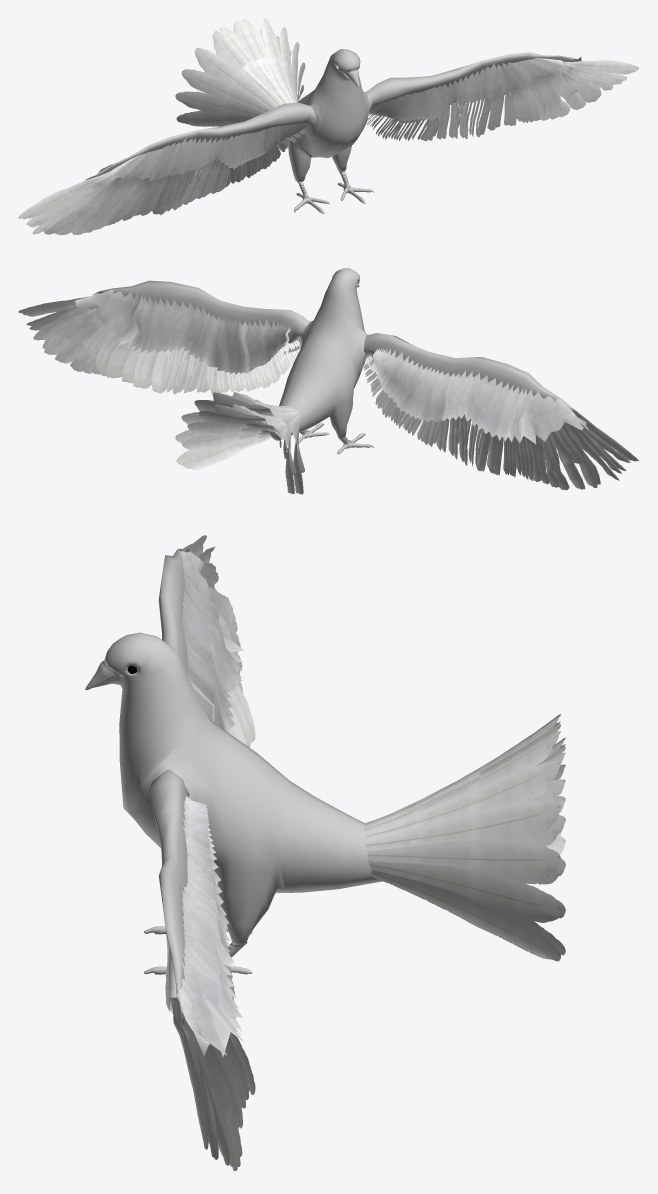
File: Pigeon.fbx
3 renders of one model, top to bottom at view 1: azimuth 30°, elevation 25°; view 2: azimuth 150°, elevation 25°; view 3: azimuth 270°, elevation 25°, orthographic. The views are drawn at different scales.
Visible parts, largest first — view 1: Body, polySurface371, polySurface301, polySurface52, polySurface53, polySurface49, polySurface51, polySurface302, polySurface48, polySurface44, polySurface45, polySurface50 (+11 smaller); view 2: Body, polySurface300, polySurface209, polySurface334, polySurface335, polySurface138, polySurface339, polySurface211, polySurface338, polySurface302, polySurface148, polySurface369 (+6 smaller); view 3: Body, polySurface209, polySurface300, polySurface47, polySurface46, polySurface43, polySurface45, polySurface42, polySurface44, polySurface211, polySurface50, polySurface41.
Boxes of the visible parts, x1=… form: Body: x1=93, y1=49, x2=577, y2=213; polySurface371: x1=369, y1=58, x2=565, y2=121; polySurface301: x1=110, y1=124, x2=308, y2=181; polySurface52: x1=194, y1=48, x2=276, y2=109; polySurface53: x1=181, y1=69, x2=270, y2=112; polySurface49: x1=175, y1=91, x2=263, y2=117; polySurface51: x1=212, y1=31, x2=281, y2=106; polySurface302: x1=18, y1=171, x2=113, y2=219; polySurface48: x1=176, y1=111, x2=253, y2=126; polySurface44: x1=241, y1=19, x2=293, y2=103; polySurface45: x1=262, y1=19, x2=295, y2=102; polySurface50: x1=233, y1=21, x2=285, y2=104; Body: x1=92, y1=268, x2=576, y2=454; polySurface300: x1=371, y1=348, x2=587, y2=443; polySurface209: x1=74, y1=290, x2=290, y2=374; polySurface334: x1=183, y1=440, x2=246, y2=470; polySurface335: x1=182, y1=431, x2=245, y2=451; polySurface138: x1=33, y1=307, x2=92, y2=340; polySurface339: x1=187, y1=421, x2=247, y2=434; polySurface211: x1=18, y1=296, x2=88, y2=316; polySurface338: x1=199, y1=411, x2=266, y2=424; polySurface302: x1=572, y1=408, x2=638, y2=461; polySurface148: x1=44, y1=308, x2=96, y2=354; polySurface369: x1=568, y1=424, x2=619, y2=480; Body: x1=85, y1=548, x2=383, y2=1023; polySurface209: x1=177, y1=796, x2=243, y2=1056; polySurface300: x1=180, y1=548, x2=243, y2=732; polySurface47: x1=367, y1=840, x2=560, y2=880; polySurface46: x1=365, y1=800, x2=560, y2=851; polySurface43: x1=368, y1=861, x2=560, y2=922; polySurface45: x1=365, y1=761, x2=560, y2=841; polySurface42: x1=371, y1=870, x2=560, y2=961; polySurface44: x1=364, y1=731, x2=560, y2=833; polySurface211: x1=173, y1=1003, x2=208, y2=1149; polySurface50: x1=364, y1=723, x2=560, y2=824; polySurface41: x1=364, y1=715, x2=560, y2=826.
Bounding box in the file's own units: 99.89 × 24.39 × 33.48.
